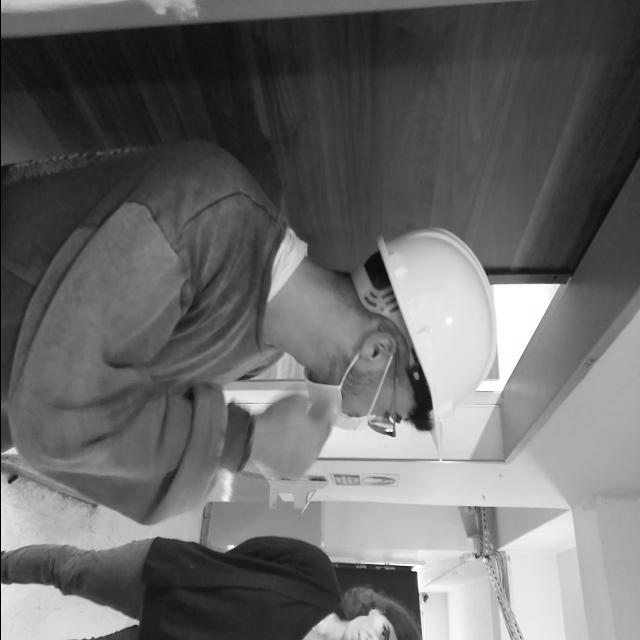construction helmet: (347, 226, 495, 446)
